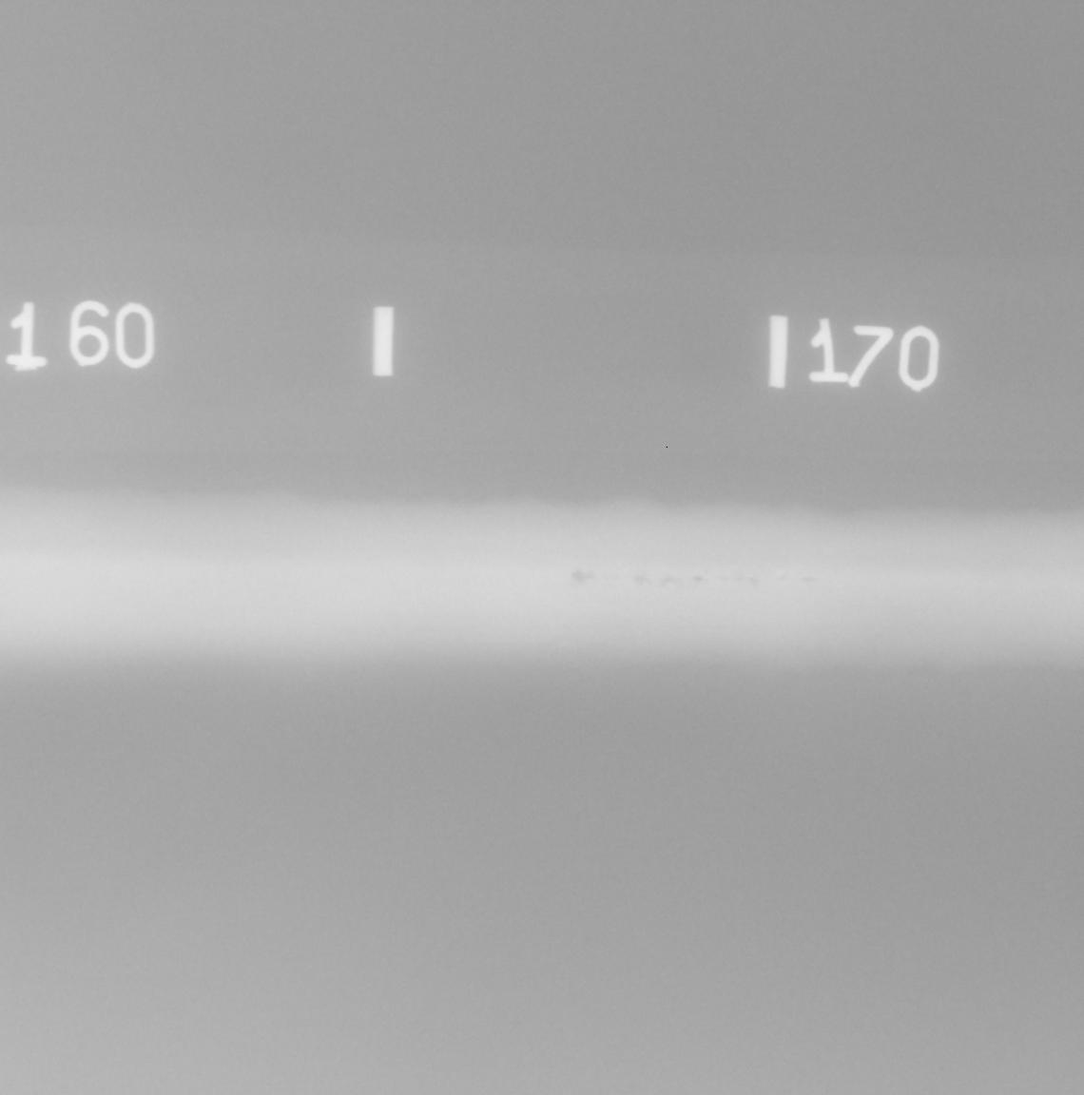Inclusion: (572, 570, 594, 584), (662, 575, 684, 587), (605, 575, 620, 586), (635, 576, 651, 586), (802, 577, 819, 586), (748, 577, 758, 586), (735, 575, 745, 582), (779, 575, 788, 581), (721, 577, 726, 581)
Pore/Porosity: (693, 576, 702, 581), (704, 570, 707, 573)
